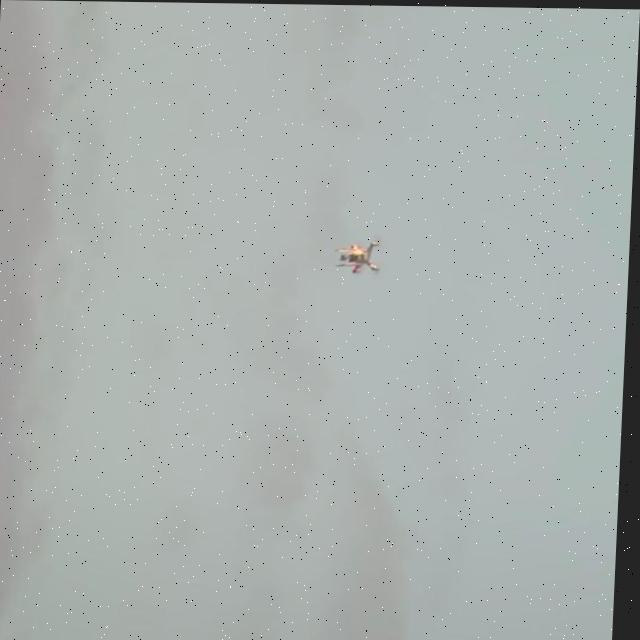drone: (335, 239, 388, 276)
